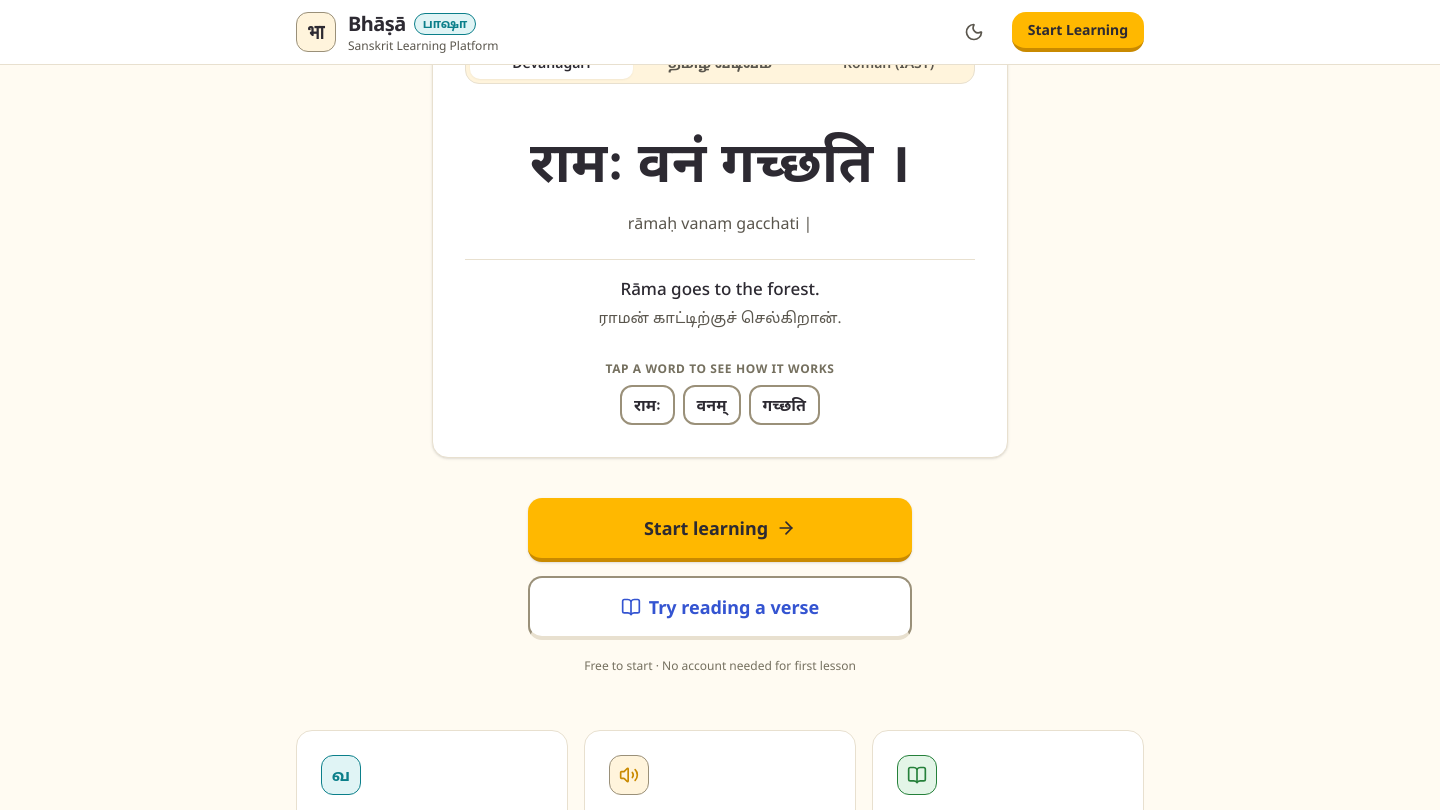
Scenario: Landing Page › allows tapping a word to inspect its grammatical role breakdown
(page scrolled)
What coordinates should you click on to do the following:
click the button "रामः"
I would click on:
 (647, 405)
Its box is [620,385,675,425].
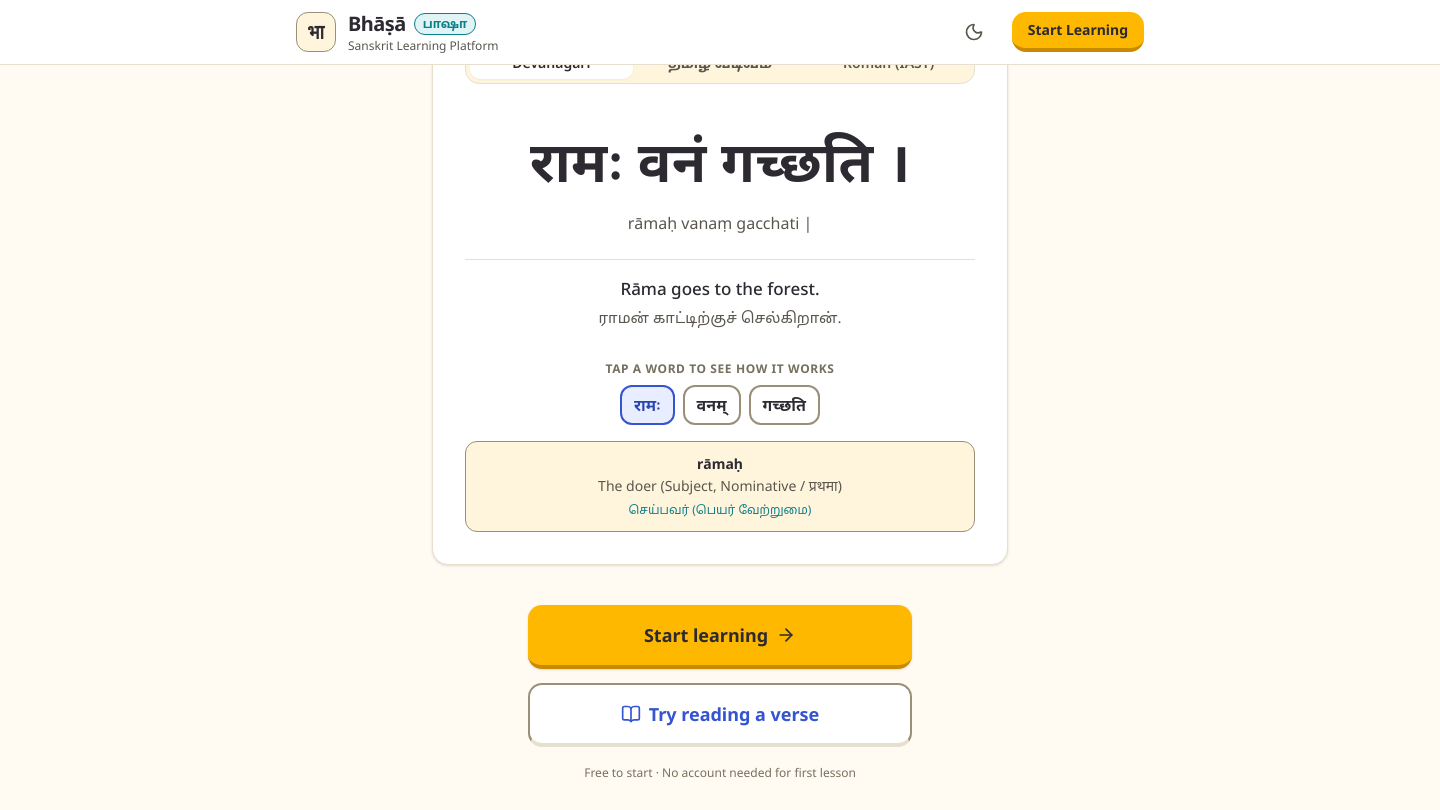
Expected: the text "The doer (Subject, Nominative / प्रथमा)" is shown, [598,476,842,495]
Expected: the text "செய்பவர் (பெயர் வேற்றுமை)" is shown, [629,501,812,518]
